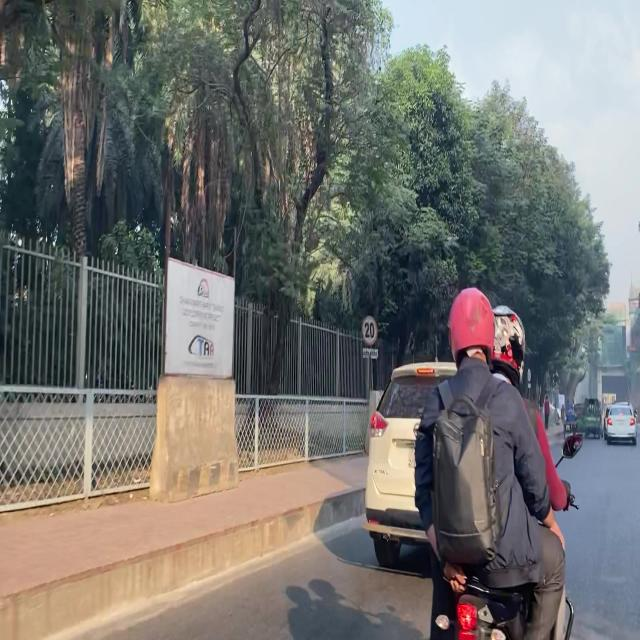car: (361, 360, 534, 584), (606, 405, 638, 446)
motorbike: (431, 415, 586, 640)
